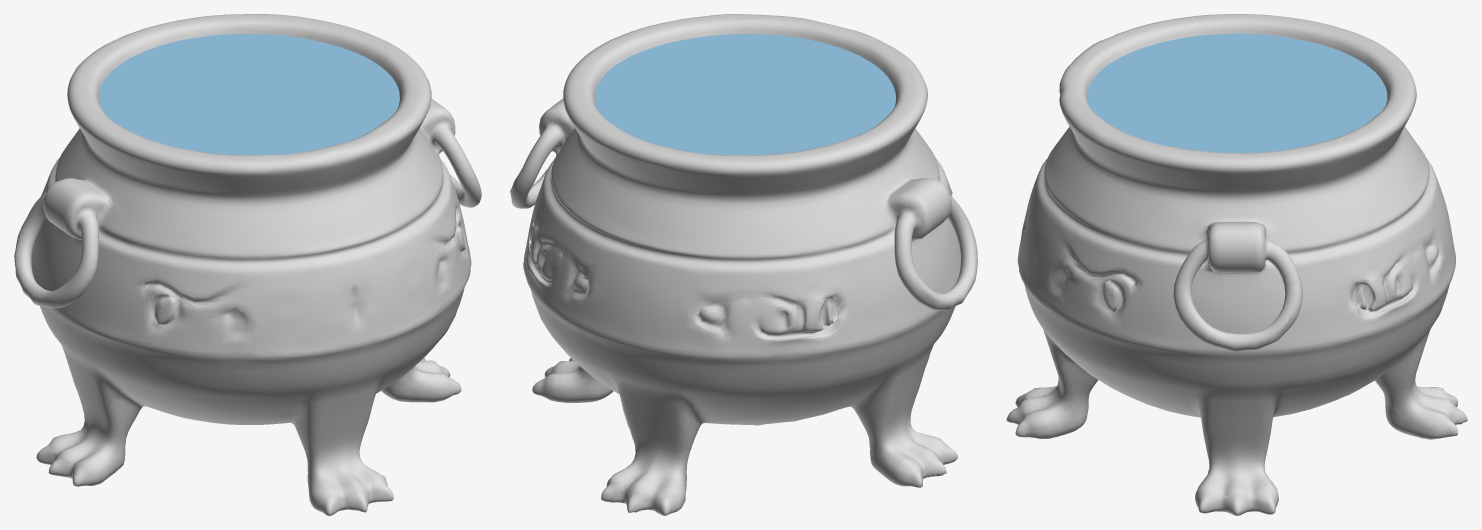
The model's file is Caldeirão.fbx.
3 views of the same model, side by side, from view 1: azimuth 30°, elevation 25°; view 2: azimuth 150°, elevation 25°; view 3: azimuth 270°, elevation 25° (orthographic).
Visible parts, largest first — view 1: model, Liquido; view 2: model, Liquido; view 3: model, Liquido.
Part boxes in pixels (bbox=[...]): model: bbox=[14, 14, 481, 515]; Liquido: bbox=[99, 34, 399, 155]; model: bbox=[510, 14, 977, 515]; Liquido: bbox=[595, 34, 895, 155]; model: bbox=[1006, 14, 1467, 515]; Liquido: bbox=[1087, 33, 1387, 153].
Size of the model in its own units: 190 by 144 by 176.
